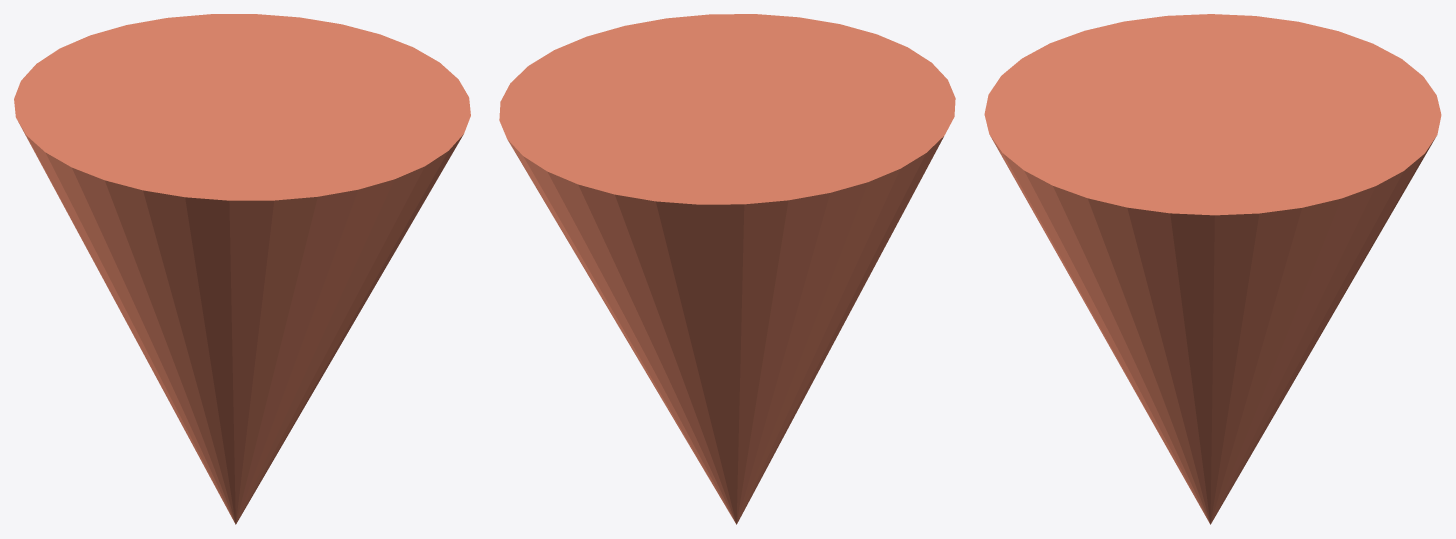
The picture shows the model from 3 angles, left to right: view 1: azimuth 30°, elevation 25°; view 2: azimuth 150°, elevation 25°; view 3: azimuth 270°, elevation 25°; orthographic projection.
Visible parts, largest first — view 1: Cone; view 2: Cone; view 3: Cone.
Boxes of the visible parts, <box> form: Cone: <box>14,14,470,524</box>; Cone: <box>499,14,955,524</box>; Cone: <box>984,14,1441,524</box>.
Size of what is drawn, in the model's own units: 1.43 by 1.44 by 1.43.
Materials: 1 (1 with a texture image).
